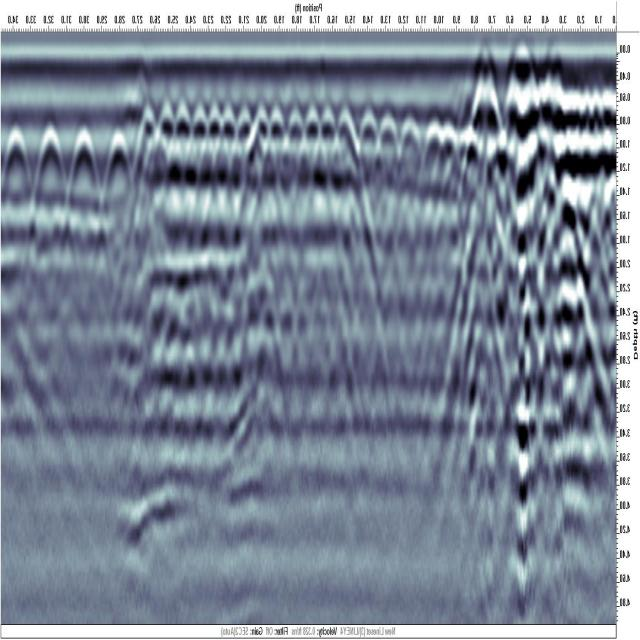hyperbola: (62, 120, 106, 250), (30, 112, 71, 239), (100, 117, 138, 250), (0, 113, 38, 240)
